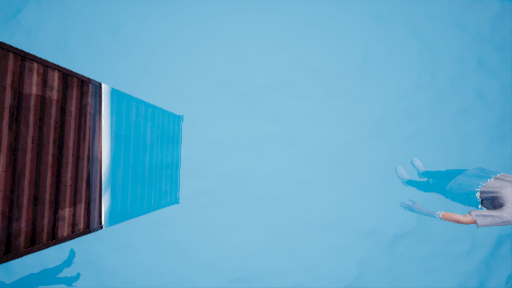person: (391, 148, 512, 246)
